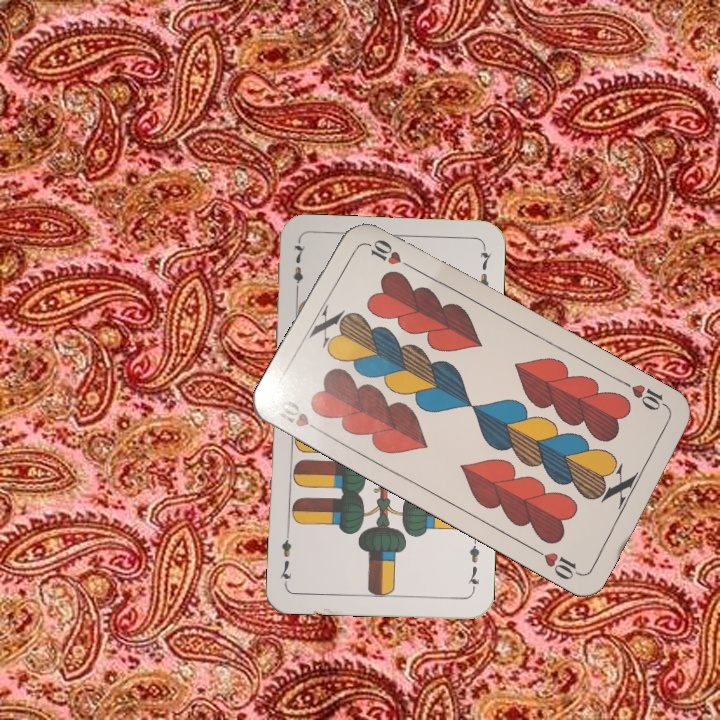E7: (289, 238, 308, 298), (464, 534, 482, 594)
H10: (271, 396, 326, 437), (619, 377, 673, 414)
